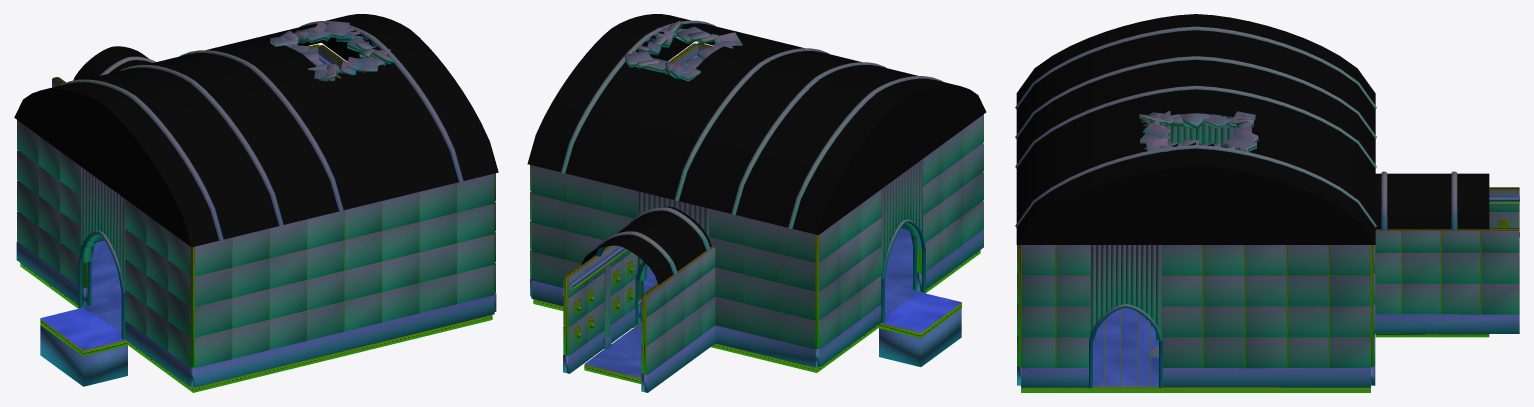
The model's file is lowlight_atrium.glb.
3 renders of one model, left to right at view 1: azimuth 30°, elevation 25°; view 2: azimuth 150°, elevation 25°; view 3: azimuth 270°, elevation 25°, orthographic. The views are drawn at different scales.
Parts seen in each view (by area): view 1: lowlight_atrium; view 2: lowlight_atrium; view 3: lowlight_atrium.
Part boxes in pixels (<box>): lowlight_atrium: <box>14,14,498,392</box>; lowlight_atrium: <box>527,14,986,392</box>; lowlight_atrium: <box>1015,14,1519,392</box>.
Size of what is drawn, in the model's own units: 23.41 by 16.52 by 28.82.
